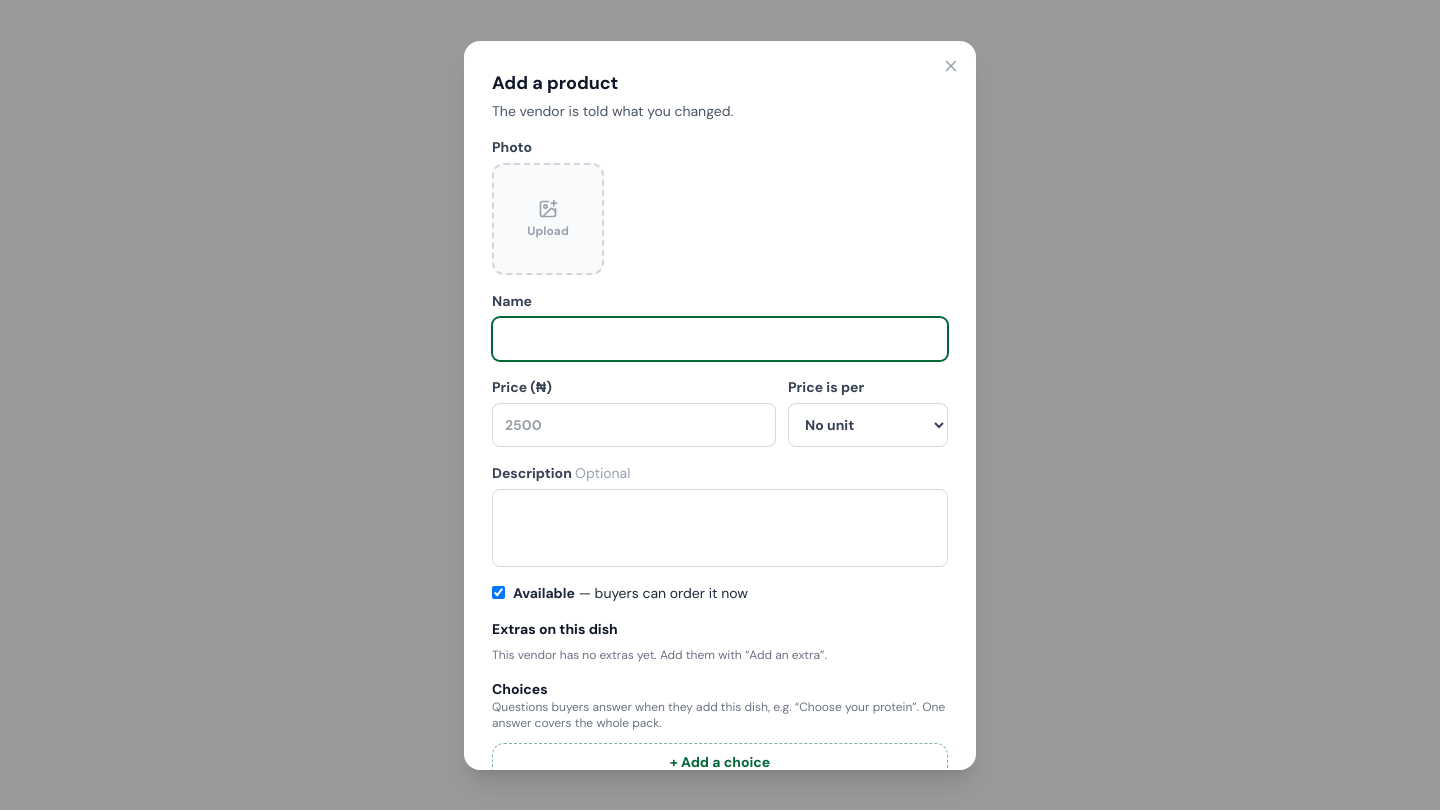
Scenario: Products › won't save a choice with no name
The image size is (1440, 810).
Step 1. Type "Rice" into the field labelled "Name" → (720, 338), box x1=492 y1=316 x2=948 y2=360
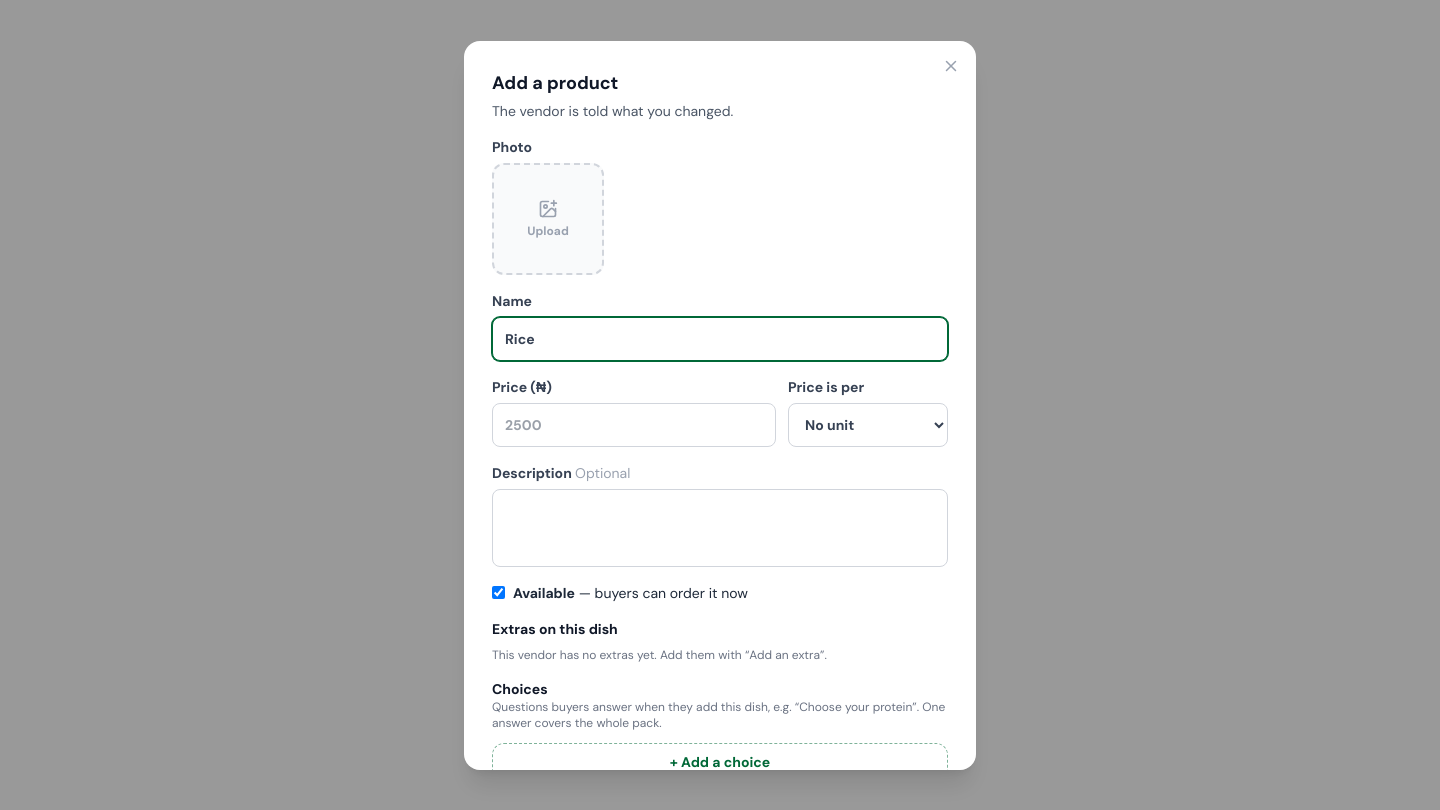
Step 2. Type "1000" into the field labelled "Price (₦)" → (634, 424), box x1=492 y1=402 x2=776 y2=446
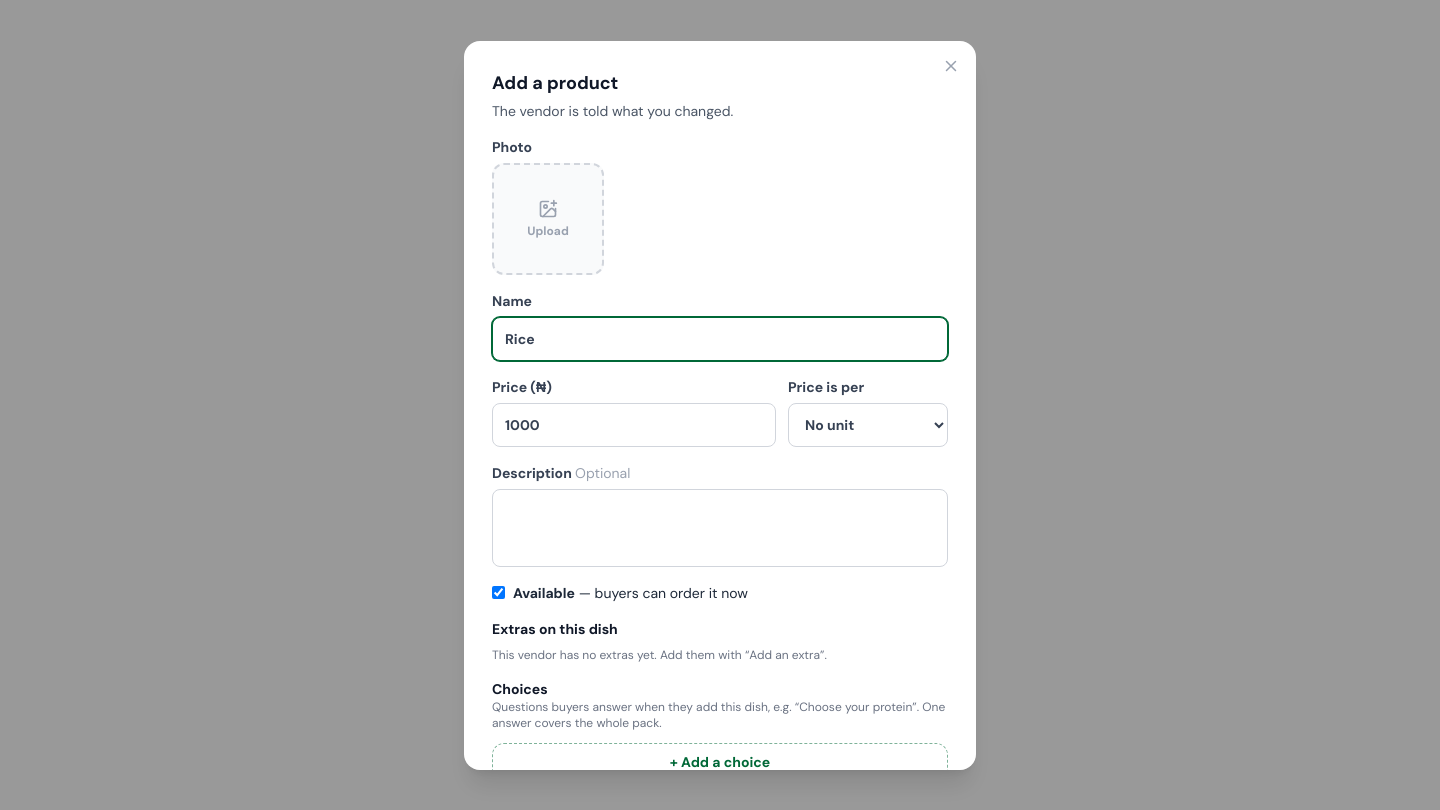
Step 3. Click the button "+ Add a choice" → (720, 762), box x1=492 y1=742 x2=948 y2=780
(page scrolled)
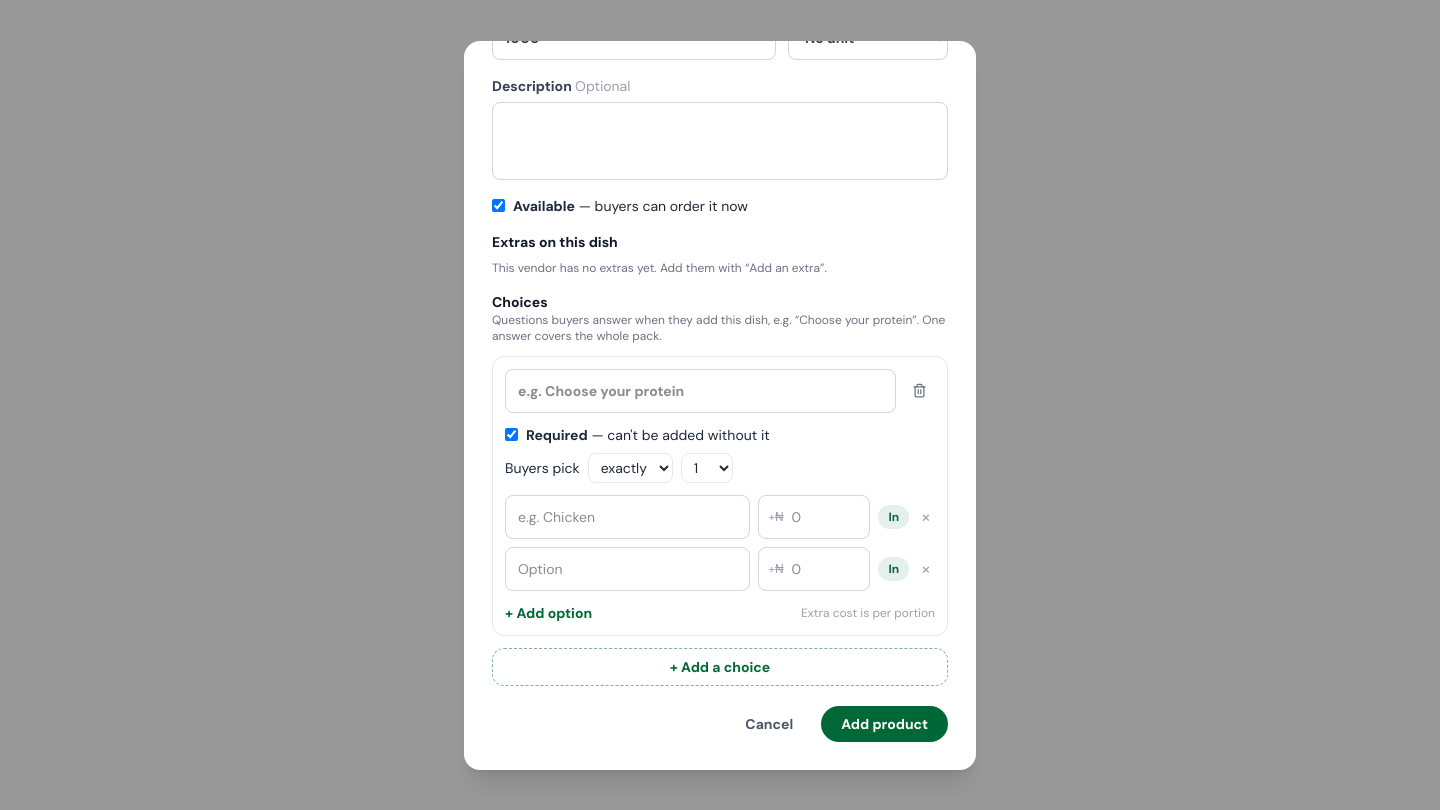
Step 4. Click the button "Add product" → (885, 724), box x1=821 y1=706 x2=948 y2=742
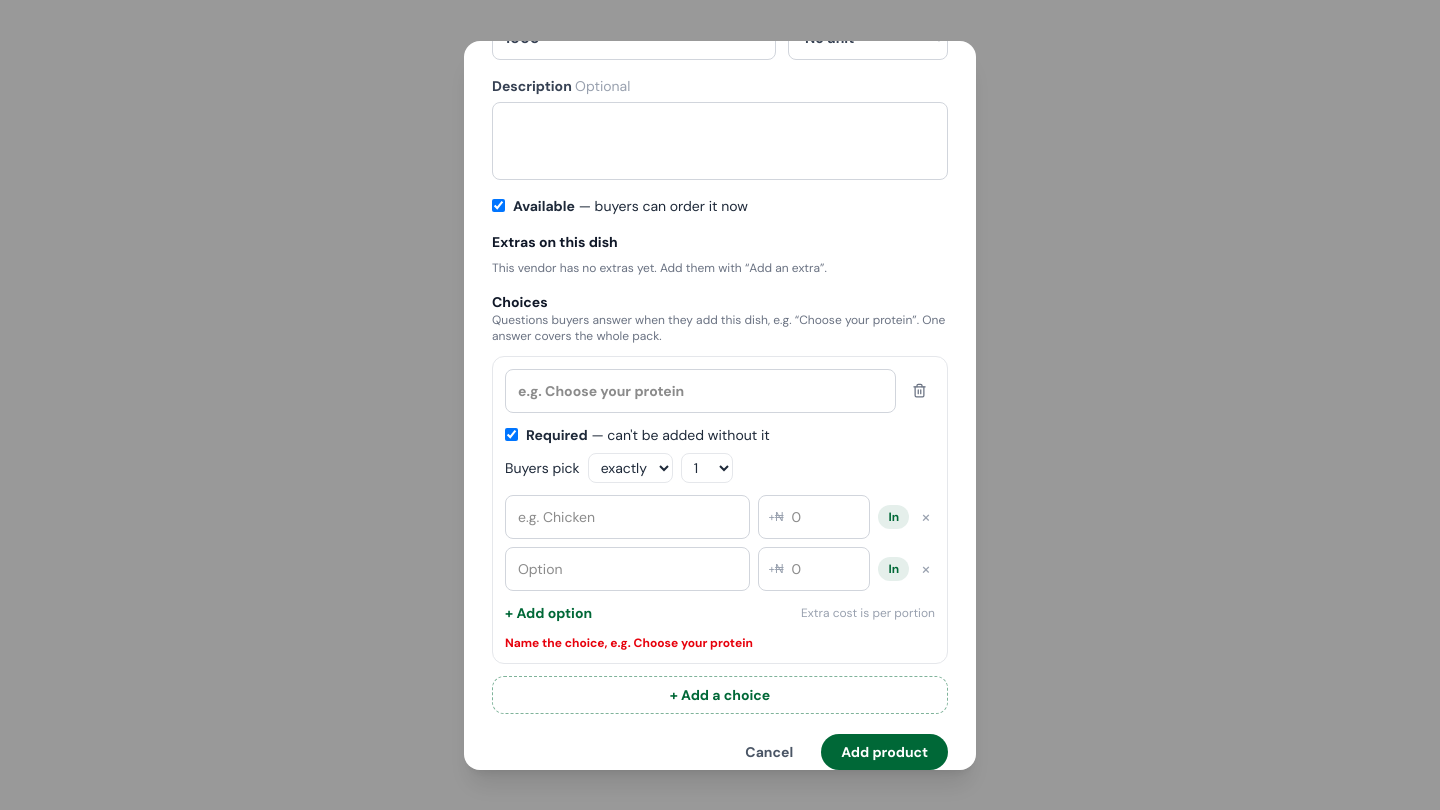
expect the text "Name the choice, e.g. Choose your protein" is shown: met, box x1=505 y1=634 x2=753 y2=650
